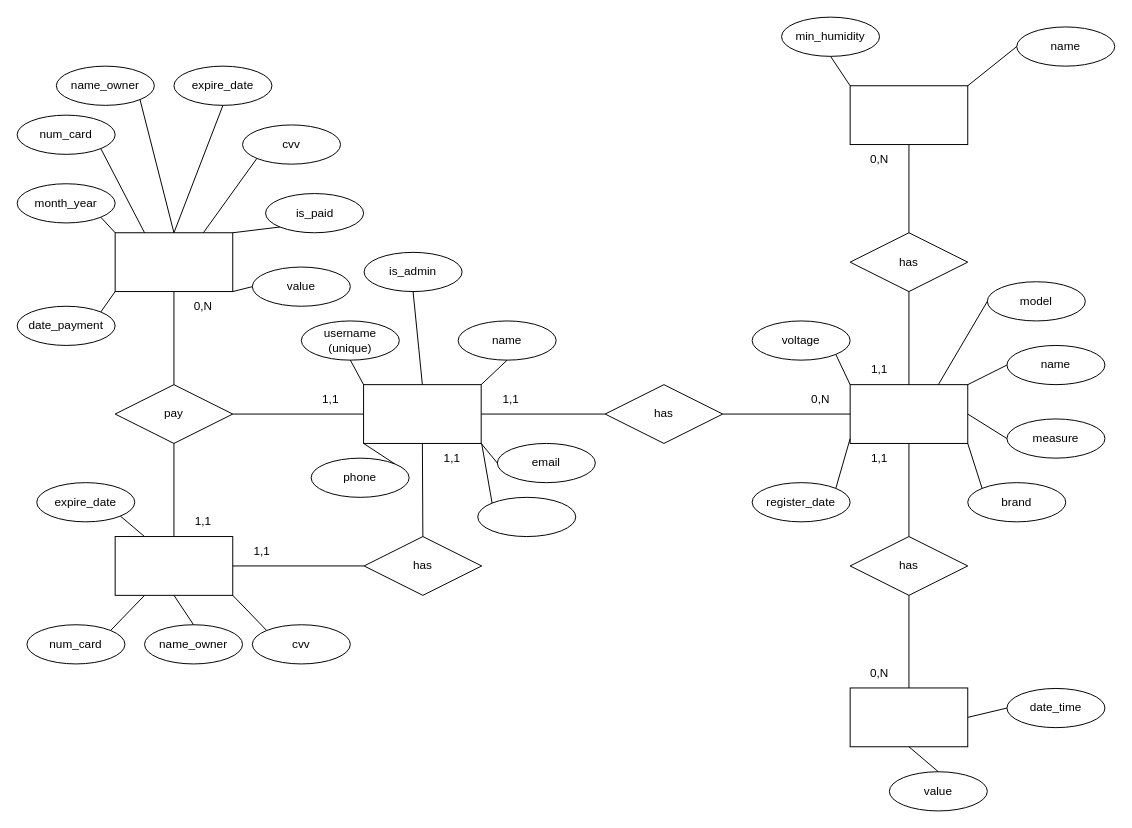
This 1132x828 diagram has some shape labels left out. The shapes that lost their labels are listed below. From the top down, each one's centre as x and y in pixels, then its label:
the point at 908,115: Plant
the point at 173,262: Payment
the point at 422,413: User
the point at 908,413: Sensor
the point at 526,516: date_creation
the point at 173,565: Credit Card
the point at 908,717: Record
